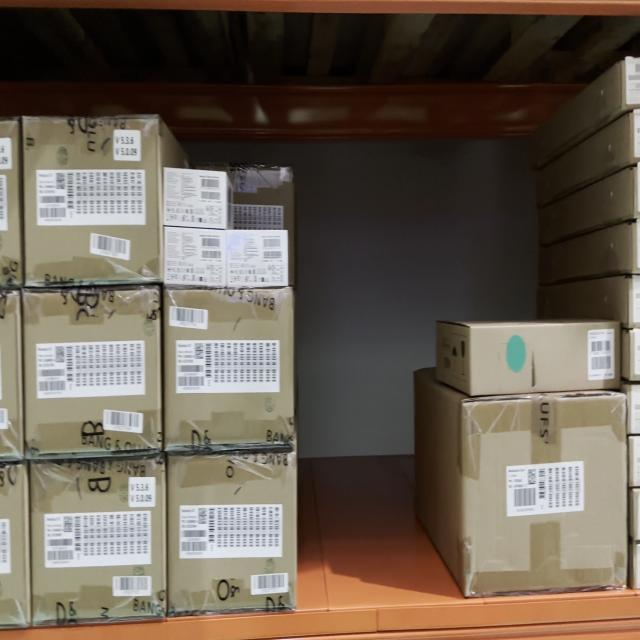box: (464, 395, 626, 593), (26, 288, 158, 452), (24, 120, 160, 278), (165, 290, 293, 448), (31, 464, 164, 614), (168, 458, 296, 610), (469, 326, 621, 385), (228, 230, 289, 287), (164, 173, 226, 226), (164, 231, 226, 282)
